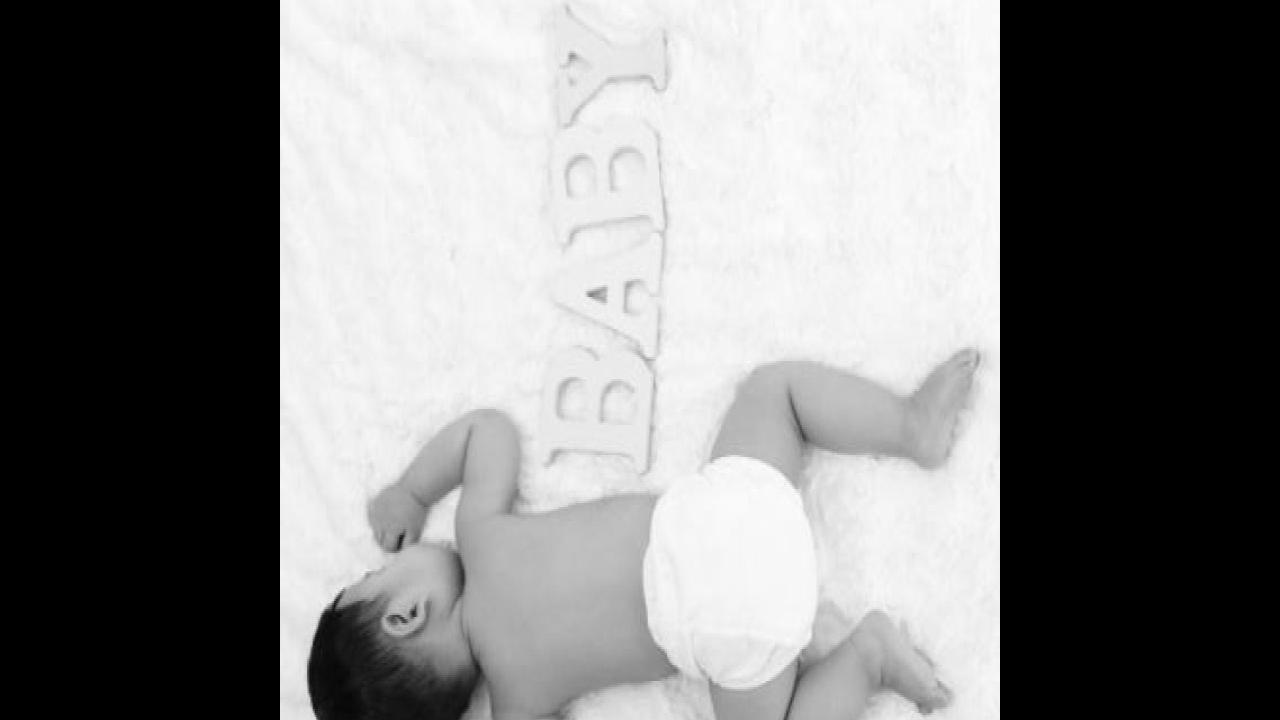hand: (355, 475, 423, 557)
